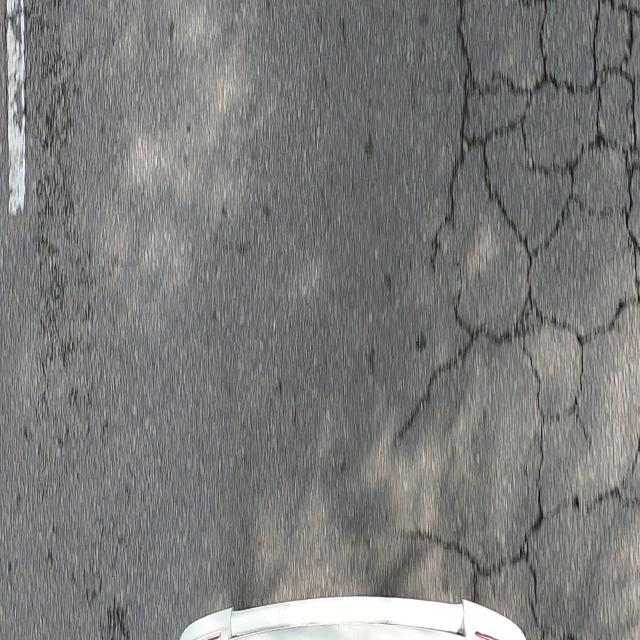Retak-Buaya: (396, 0, 640, 640)
